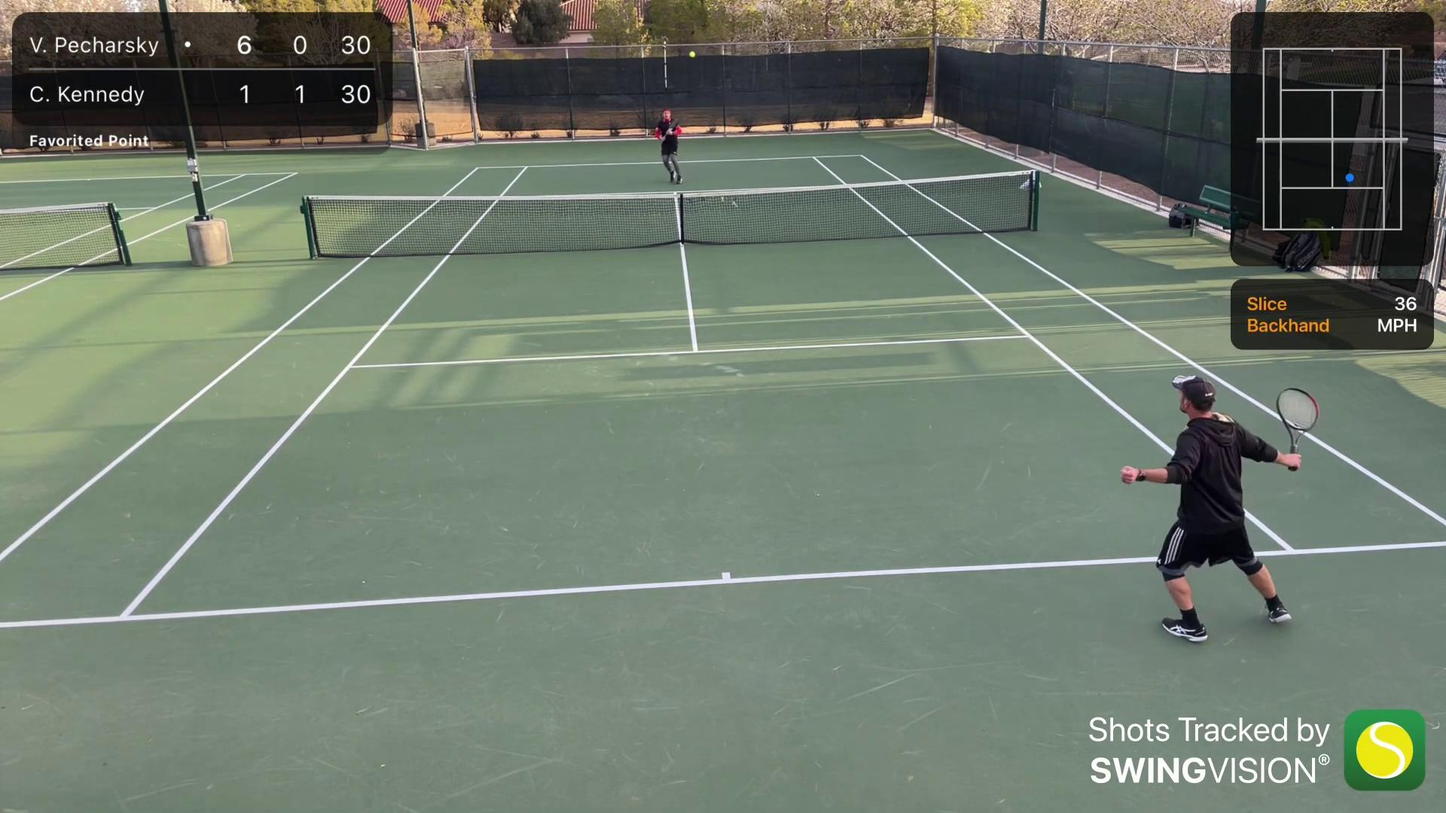ball: (688, 51, 697, 57)
